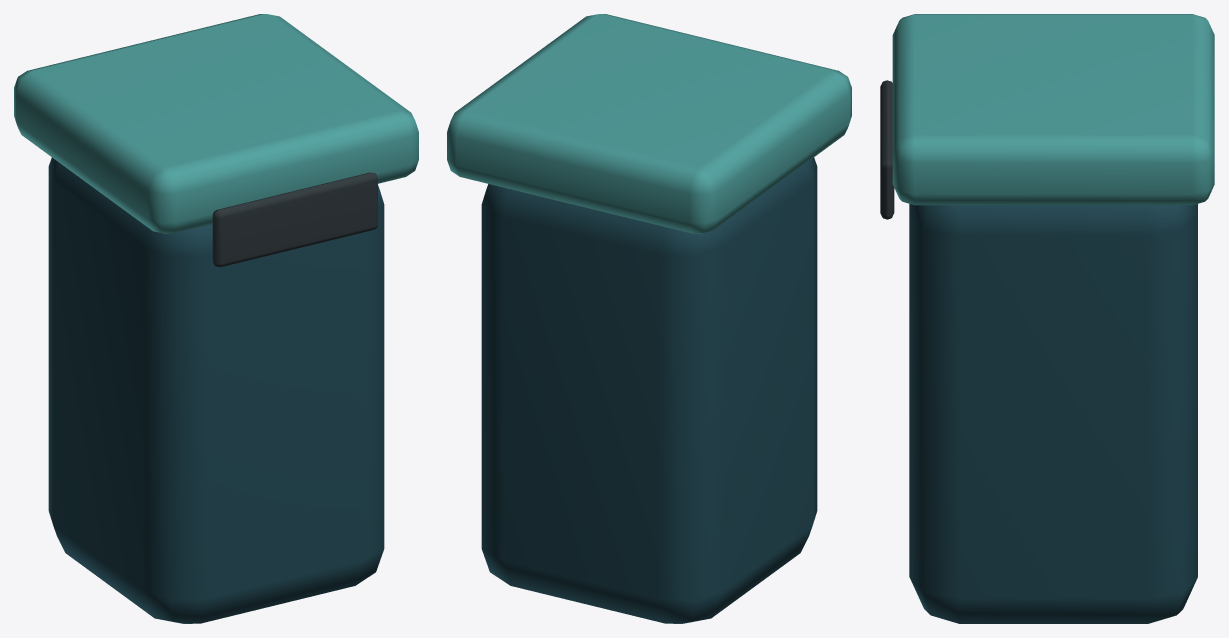
File: bin.glb
The picture shows the model from 3 angles, left to right: view 1: azimuth 30°, elevation 25°; view 2: azimuth 150°, elevation 25°; view 3: azimuth 270°, elevation 25°; orthographic projection. The views are drawn at different scales.
Visible parts, largest first — view 1: Waste bin, Bin lid, Opening; view 2: Waste bin, Bin lid; view 3: Waste bin, Bin lid, Opening.
Part boxes in pixels (x1,y1,x2,y2): Waste bin: [48, 157, 384, 623]; Bin lid: [14, 14, 418, 233]; Opening: [212, 172, 377, 266]; Waste bin: [481, 157, 817, 623]; Bin lid: [447, 14, 851, 233]; Waste bin: [909, 204, 1197, 623]; Bin lid: [892, 14, 1214, 205]; Opening: [880, 80, 894, 219].
Bounding box in the file's own units: 0.59 × 1.01 × 0.6025.
